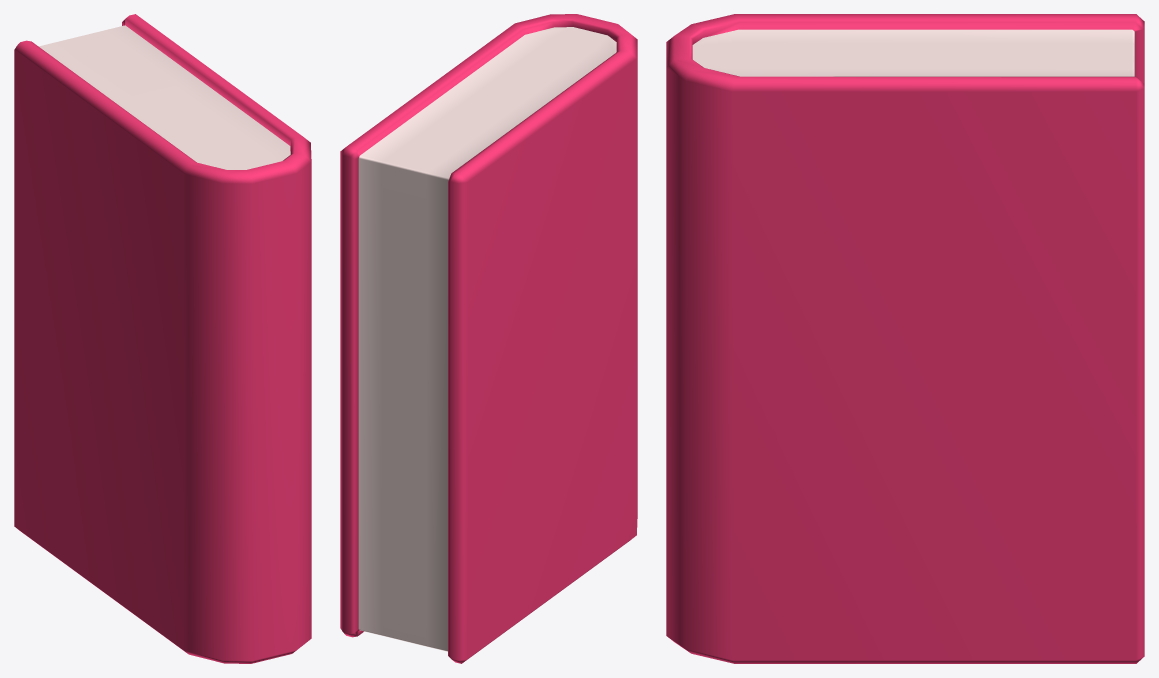
File: Store_7_Book_4.glb
The picture shows the model from 3 angles, left to right: view 1: azimuth 30°, elevation 25°; view 2: azimuth 150°, elevation 25°; view 3: azimuth 270°, elevation 25°; orthographic projection. The views are drawn at different scales.
Visible parts, largest first — view 1: Store_7_Book_4; view 2: Store_7_Book_4; view 3: Store_7_Book_4.
Part boxes in pixels (x1,y1,x2,y2): Store_7_Book_4: [14, 14, 311, 663]; Store_7_Book_4: [340, 14, 637, 663]; Store_7_Book_4: [666, 14, 1144, 663].
Size of the model in its own units: 0.1558 by 0.5728 by 0.4257.
1 material, 1 textured.
